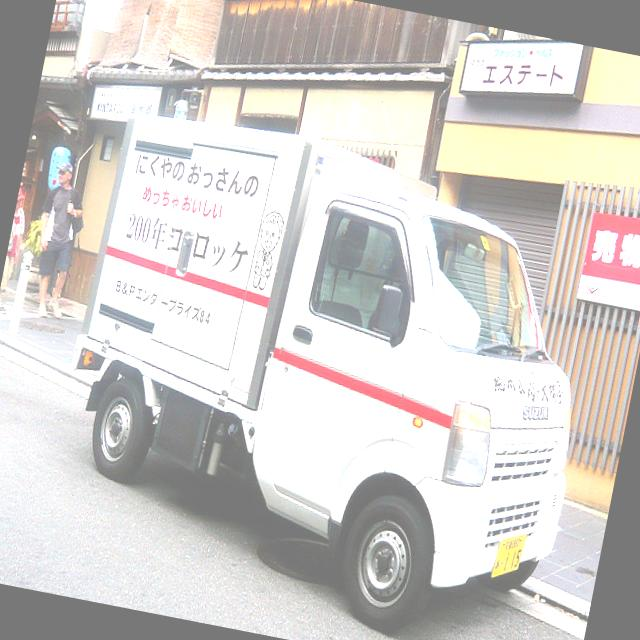Vehicle: (36, 97, 626, 640)
